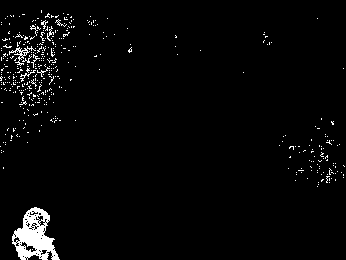person: (12, 206, 60, 260)
